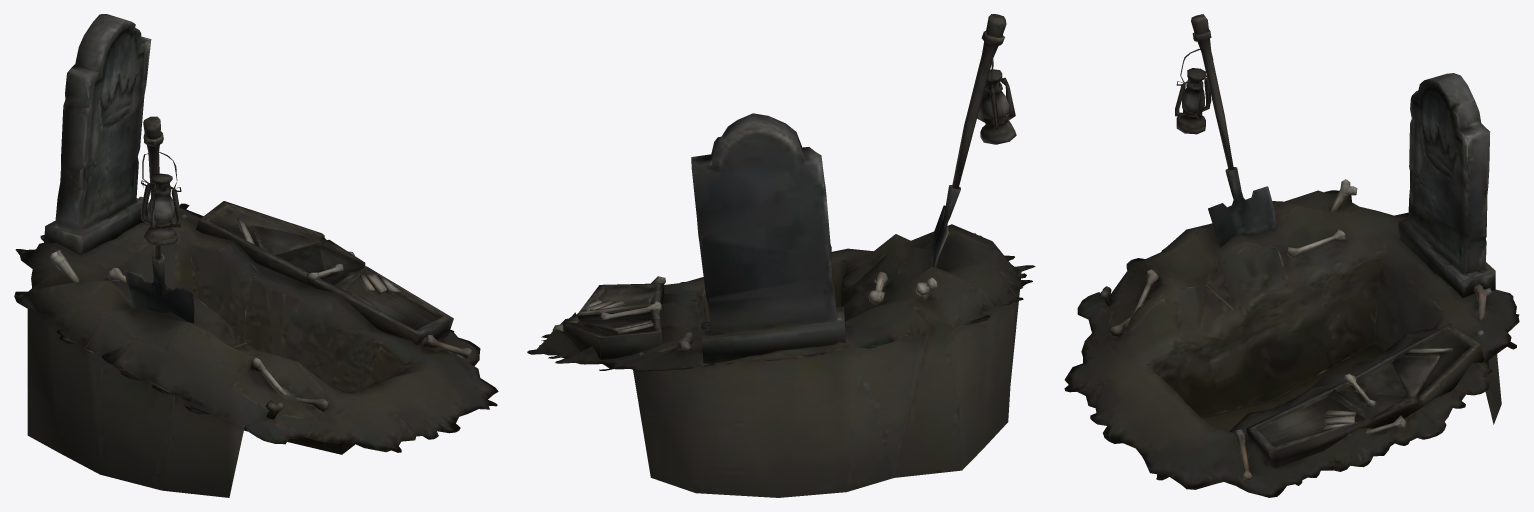
The model's file is kings_grave.glb.
The picture shows the model from 3 angles, left to right: view 1: azimuth 30°, elevation 25°; view 2: azimuth 150°, elevation 25°; view 3: azimuth 270°, elevation 25°; orthographic projection. The views are drawn at different scales.
Visible parts, largest first — view 1: tripo_node_b5aa403d-a87c-49dc-8bc5-569eda3b058d; view 2: tripo_node_b5aa403d-a87c-49dc-8bc5-569eda3b058d; view 3: tripo_node_b5aa403d-a87c-49dc-8bc5-569eda3b058d.
Boxes of the visible parts, bbox=[...] form: tripo_node_b5aa403d-a87c-49dc-8bc5-569eda3b058d: bbox=[14, 14, 498, 497]; tripo_node_b5aa403d-a87c-49dc-8bc5-569eda3b058d: bbox=[527, 14, 1035, 497]; tripo_node_b5aa403d-a87c-49dc-8bc5-569eda3b058d: bbox=[1064, 14, 1519, 497].
Bounding box in the file's own units: 0.998 × 0.8105 × 0.998.
Materials: 1 (1 with a texture image).
